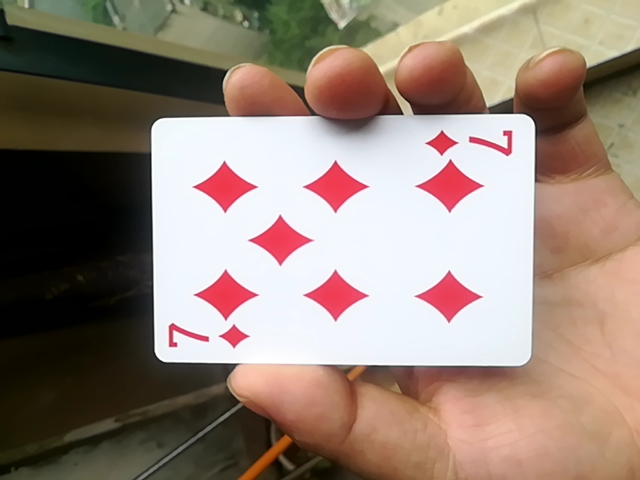fk 7: (142, 109, 541, 373)
